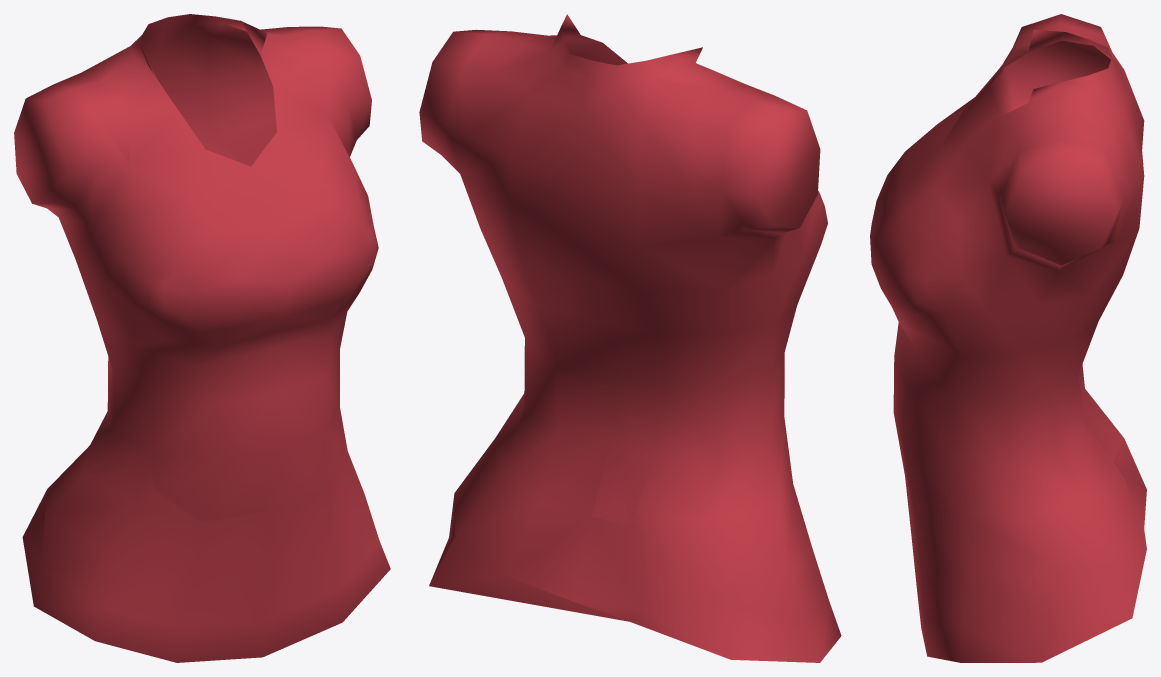
Rendered from Eve_Shirt.fbx.
The picture shows the model from 3 angles, left to right: view 1: azimuth 30°, elevation 25°; view 2: azimuth 150°, elevation 25°; view 3: azimuth 270°, elevation 25°; orthographic projection. The views are drawn at different scales.
Parts seen in each view (by area): view 1: Kleidung; view 2: Kleidung; view 3: Kleidung.
Part boxes in pixels (x1,y1,x2,y2): Kleidung: [14, 14, 390, 662]; Kleidung: [419, 14, 841, 662]; Kleidung: [870, 14, 1146, 662].
Size of the model in its own units: 320 by 518 by 227.
